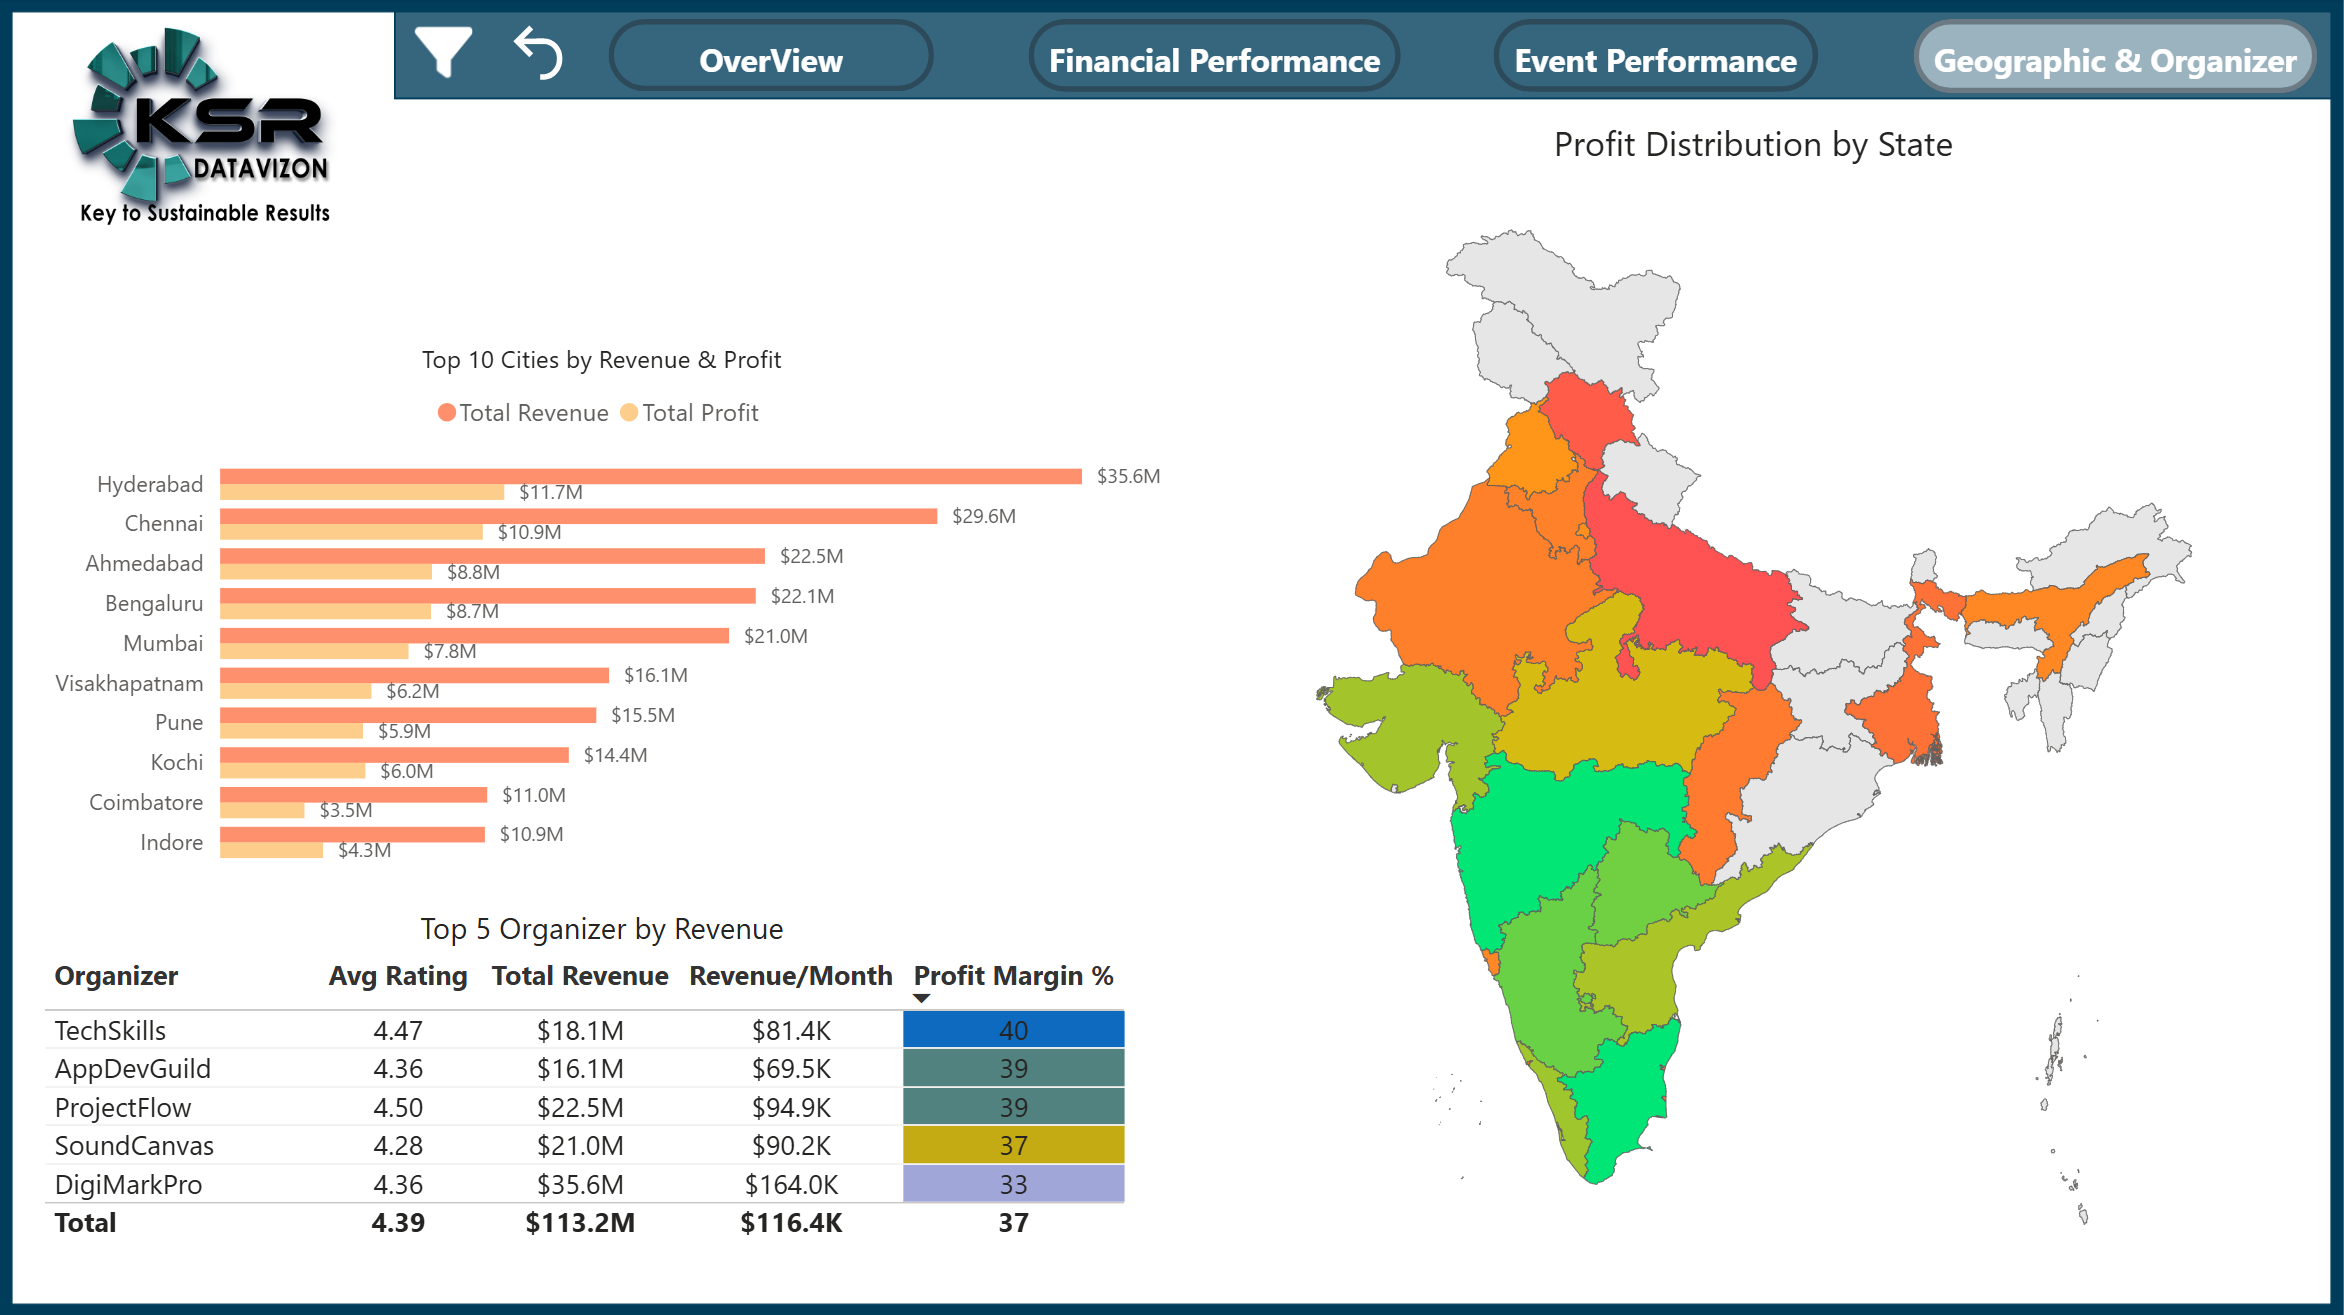

The page's visual inventory and layout, read from the dashboard file:
{"tool":"powerbi","page":{"name":"Geographic & Organizer","canvas":[1280,720],"ordinal":3},"visuals":[{"type":"tableEx","title":"Top 5 Organizer by Revenue","fields":{"Values":["KSR_Organizer_dim.Organizer","Measure Table.Avg Rating","Measure Table.Total Revenue","Measure Table.Revenue/Month","Measure Table.Profit Margin %"]},"box":[19.8,495.8,619.8,207],"z":0},{"type":"clusteredBarChart","title":"Top 10 Cities by Revenue & Profit","fields":{"Category":["KSR_City_dim.City"],"Y":["Measure Table.Total Revenue","Measure Table.Total Profit"]},"box":[18.5,187.3,621.1,295.4],"z":1000},{"type":"image","box":[7.9,6.6,209.7,125.3],"z":2000},{"type":"shape","box":[215.6,6.3,1057.5,48.7],"z":3000},{"type":"actionButton","title":"Filter Customer","box":[223.6,9.5,47.6,39.6],"z":5000},{"type":"actionButton","box":[274.7,10.2,42.5,39.8],"z":6000},{"type":"actionButton","box":[332.7,11.6,177.6,39.3],"z":7000},{"type":"actionButton","box":[561.6,11.4,203,39.7],"z":8000},{"type":"actionButton","box":[815.9,11.4,177.1,39.7],"z":9000},{"type":"actionButton","box":[1044.3,11.1,220.3,40.5],"z":12000},{"type":"shapeMap","title":"Profit Distribution by State","fields":{"Category":["KSR_State_dim.State"],"Value":["Measure Table.Total Profit"]},"box":[653.1,66.3,609.3,637.4],"z":13000}]}

Visuals, with their boxes in screenshot pixels (x1, y1, x2, y2), scaled from the page's 1280x720 canvas onto the 2344x1315 screenshot:
"Top 5 Organizer by Revenue" tableEx: select_region(36, 906, 1171, 1284)
"Top 10 Cities by Revenue & Profit" clusteredBarChart: select_region(34, 342, 1171, 882)
image: select_region(14, 12, 398, 241)
shape: select_region(395, 12, 2331, 100)
"Filter Customer" actionButton: select_region(409, 17, 497, 90)
actionButton: select_region(503, 19, 581, 91)
actionButton: select_region(609, 21, 934, 93)
actionButton: select_region(1028, 21, 1400, 93)
actionButton: select_region(1494, 21, 1818, 93)
actionButton: select_region(1912, 20, 2316, 94)
"Profit Distribution by State" shapeMap: select_region(1196, 121, 2312, 1285)
